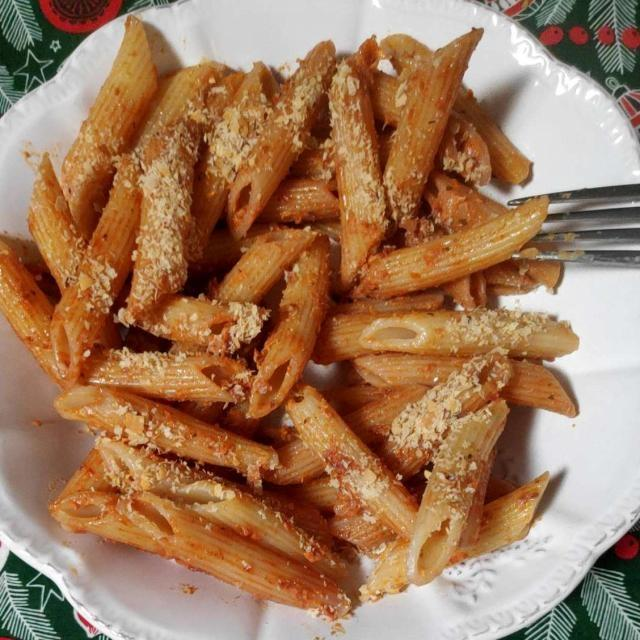cheese: (137, 57, 545, 457)
pasta: (8, 30, 563, 612)
